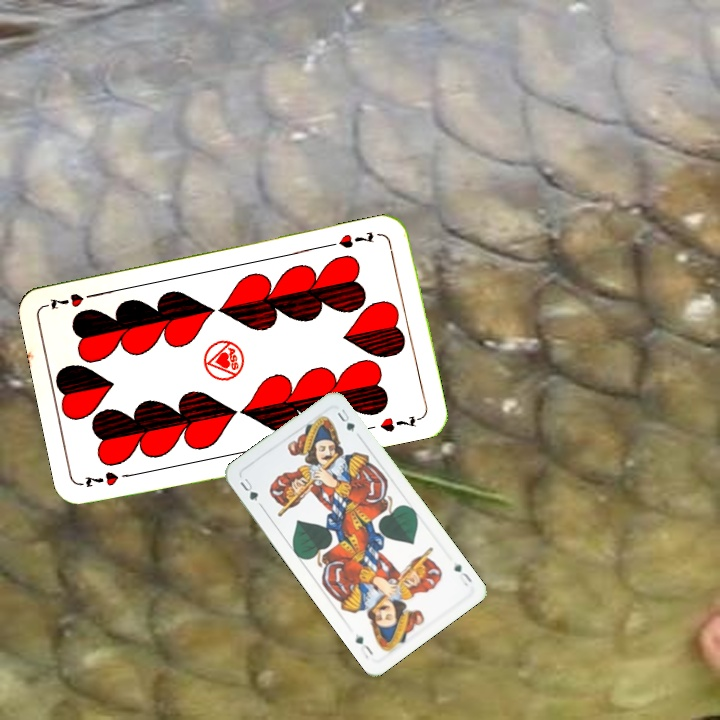GU: (236, 473, 261, 504), (450, 559, 475, 589)
H7: (79, 467, 138, 490), (334, 227, 376, 251)
